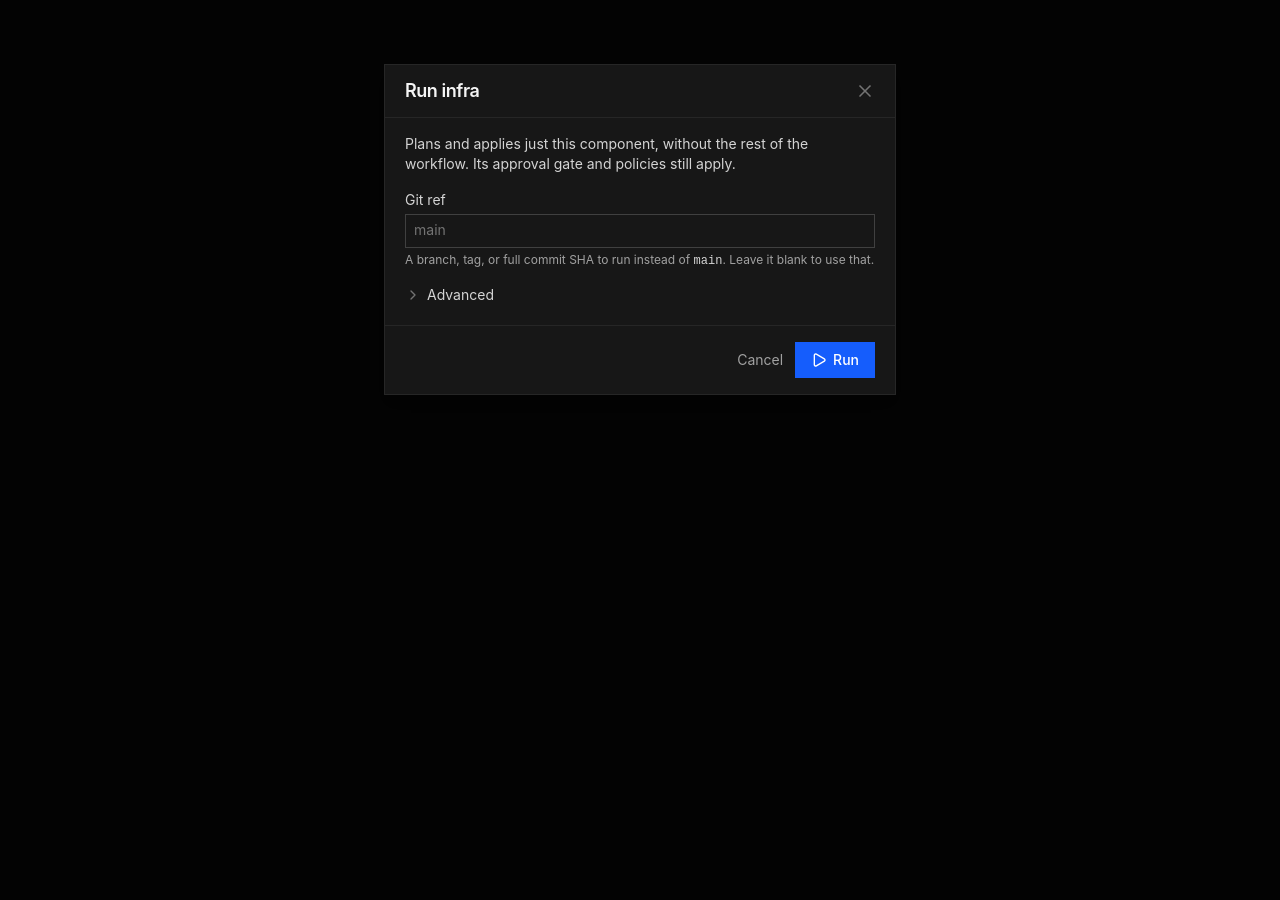
Scenario: ComponentRunDialog › shows the API's reason when the run is refused
The width and height of the screenshot is (1280, 900).
Type "a b" into the field labelled "Git ref" at (640, 231), box [405, 214, 875, 248]
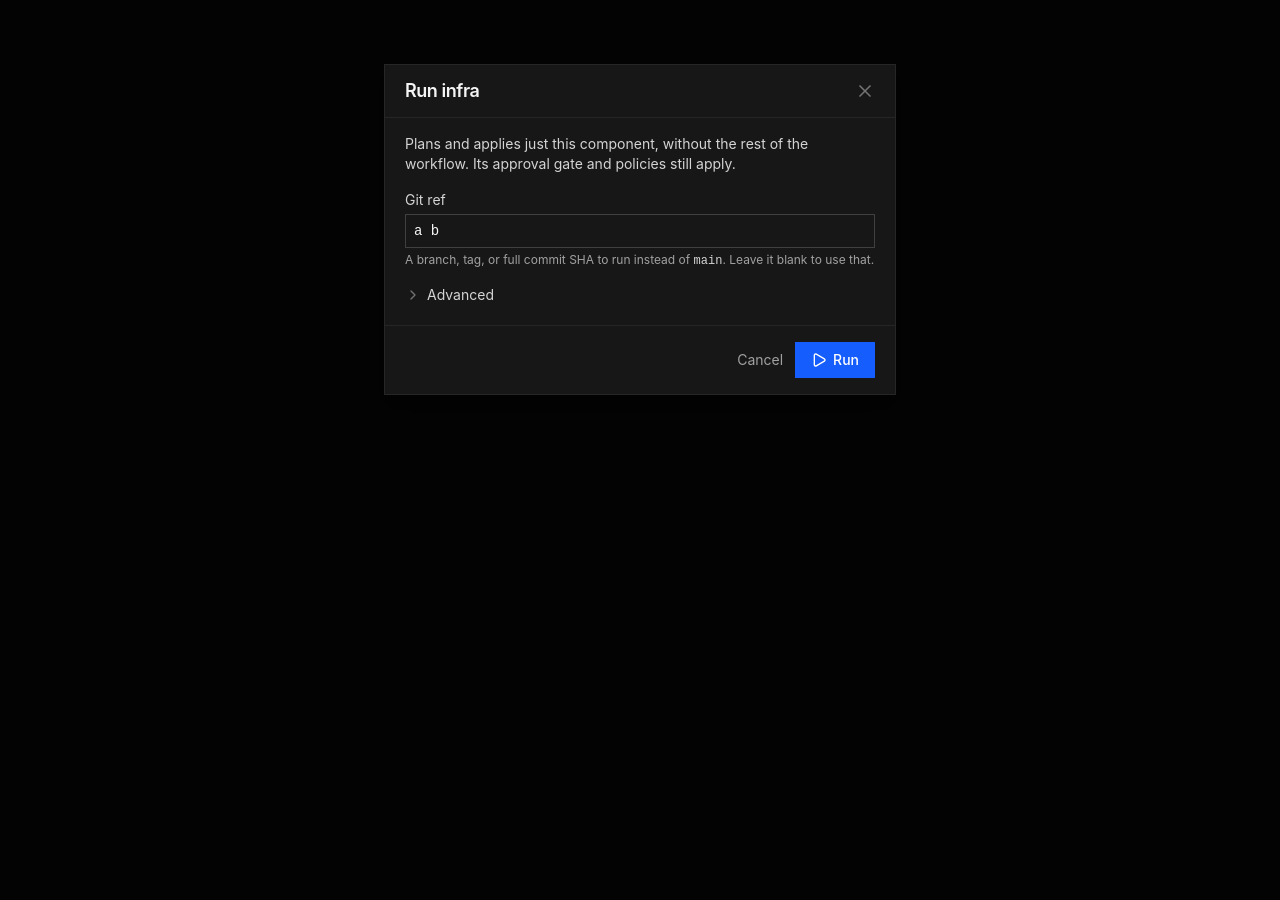
Click the button "Run" at (835, 360), box [795, 342, 875, 378]
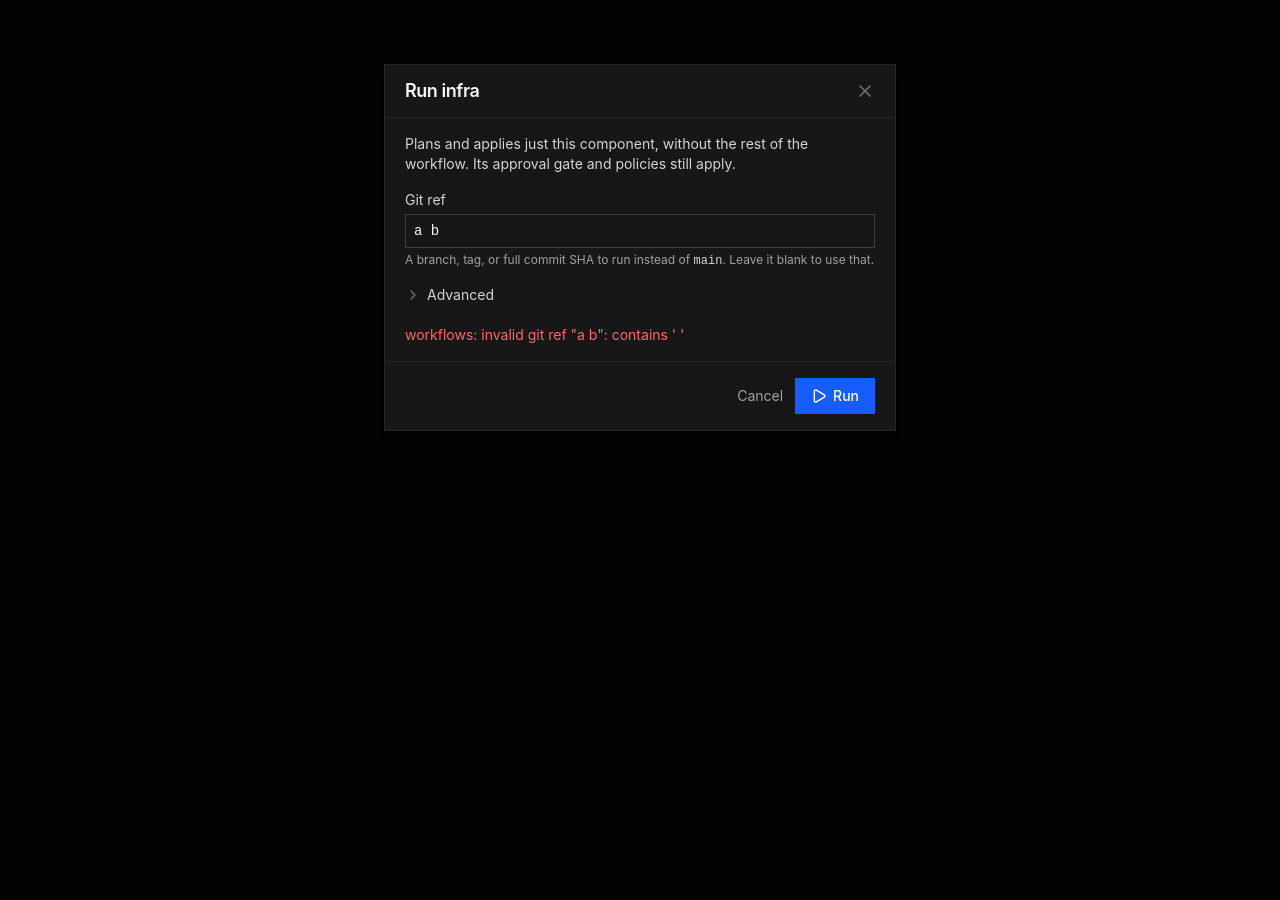
Expected: the text "workflows: invalid git ref \"a b\": contains ' '" is shown, [405, 326, 684, 343]
